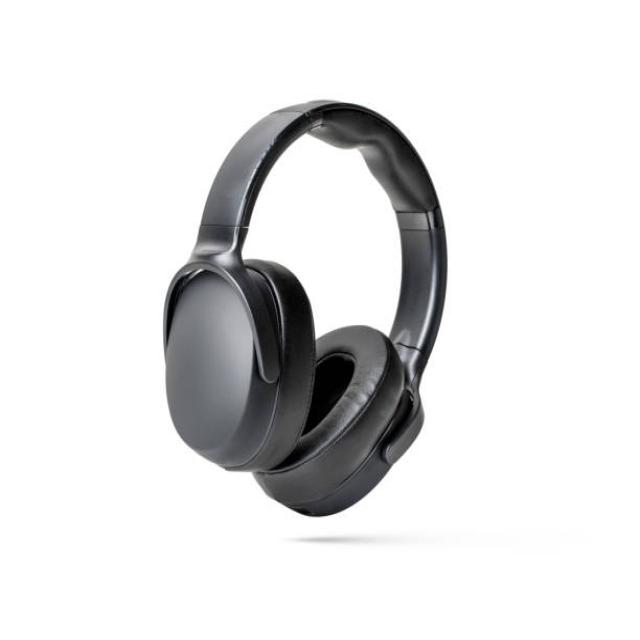Headphone: (160, 96, 450, 521)
